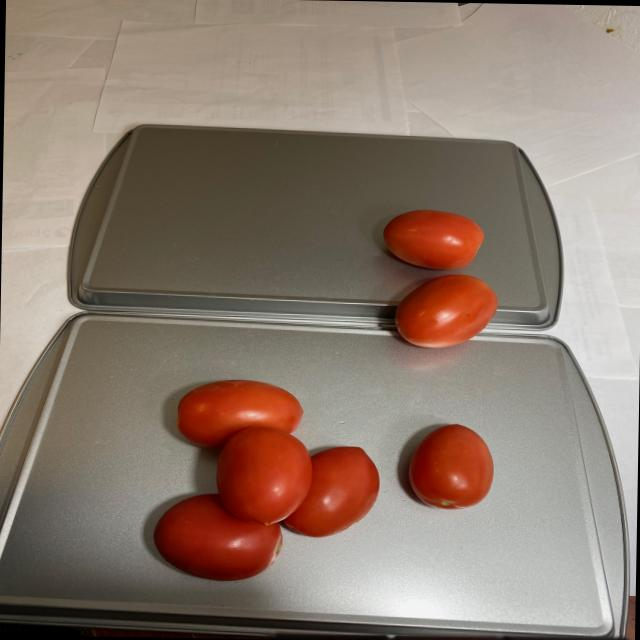tomato: (145, 377, 503, 587), (382, 208, 496, 358)
